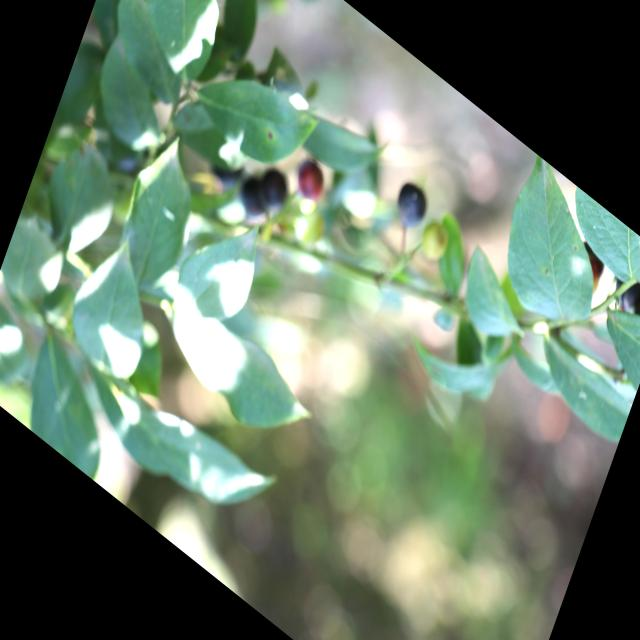blueberry: (392, 176, 433, 234), (236, 170, 274, 226), (255, 164, 292, 216)
blueberry-halfripe: (291, 150, 330, 208)
blueberry-unripe: (418, 215, 452, 265)
